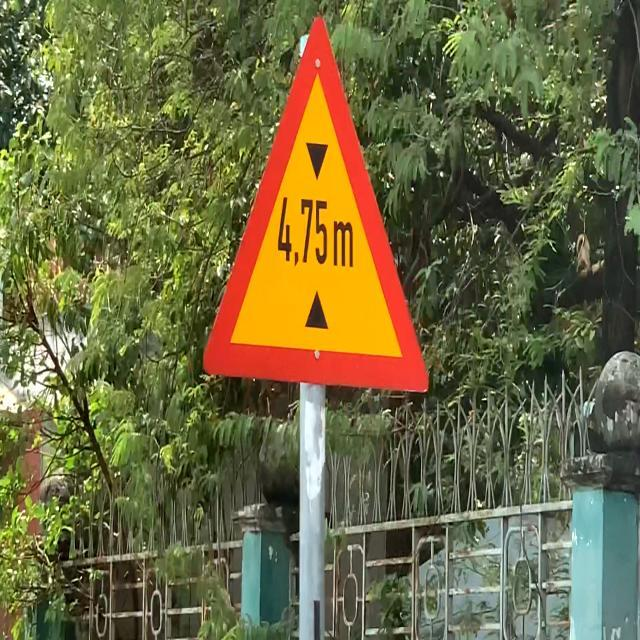W-239b: (204, 15, 428, 396)
